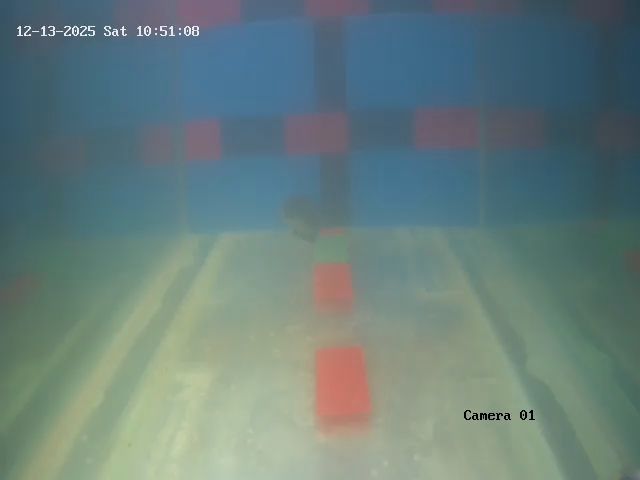fish: (271, 190, 330, 250)
